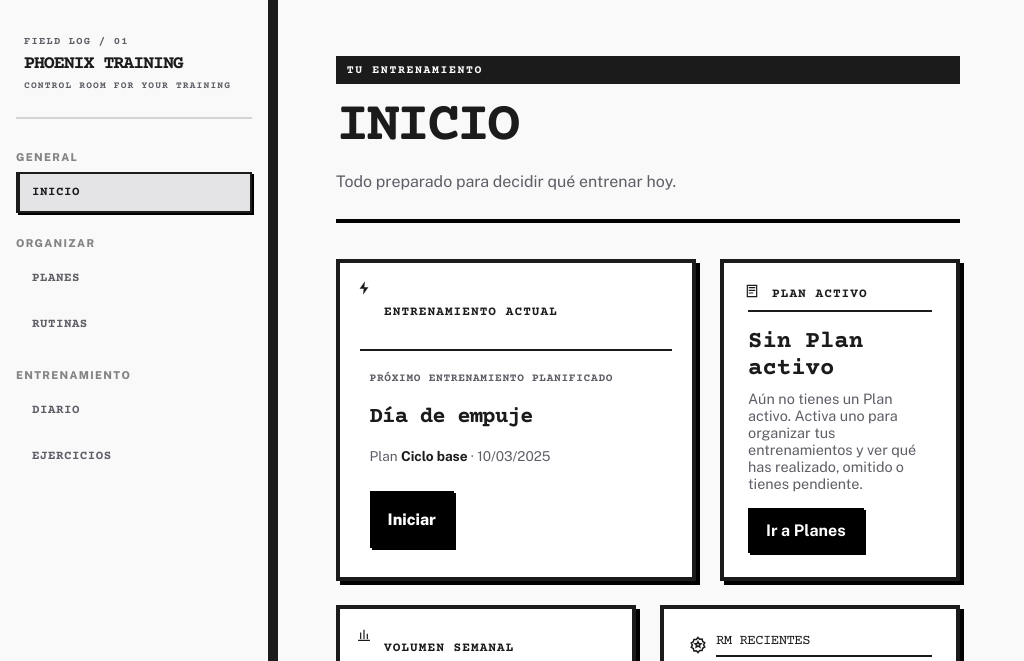
Test: primer bloque de Inicio: entrenamiento actual › ofrece Iniciar para el próximo Entrenamiento planificado pendiente y lo inicia
expect the text "Día de empuje" is shown: met, box x1=370 y1=404 x2=532 y2=430
expect the text "Ciclo base" is shown: met, box x1=401 y1=448 x2=468 y2=464
Click the button "Iniciar" at (412, 519), box x1=370 y1=491 x2=454 y2=548
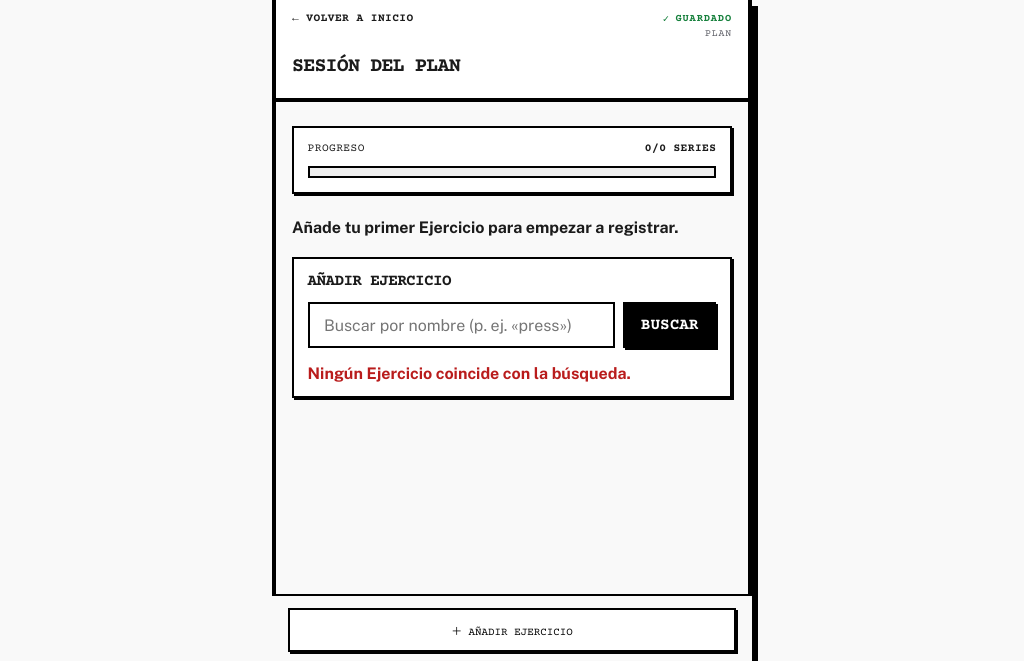
expect the heading "Sesión del Plan" is shown: met, box x1=292 y1=55 x2=460 y2=78
